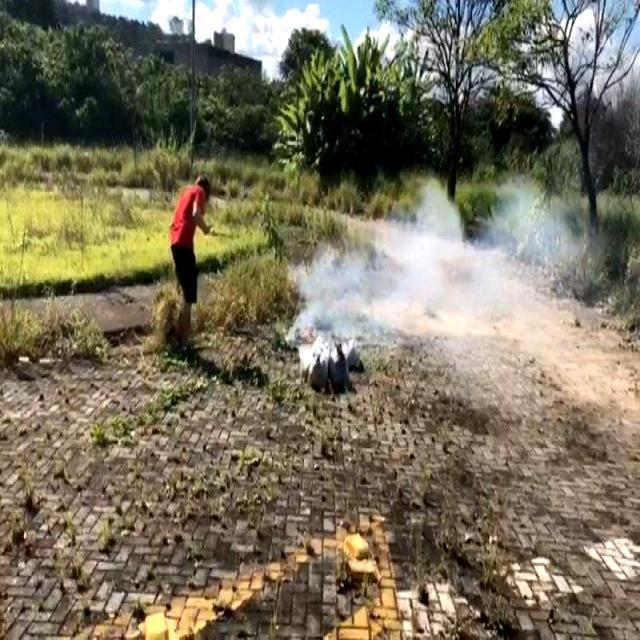Smoke: (292, 173, 601, 374)
